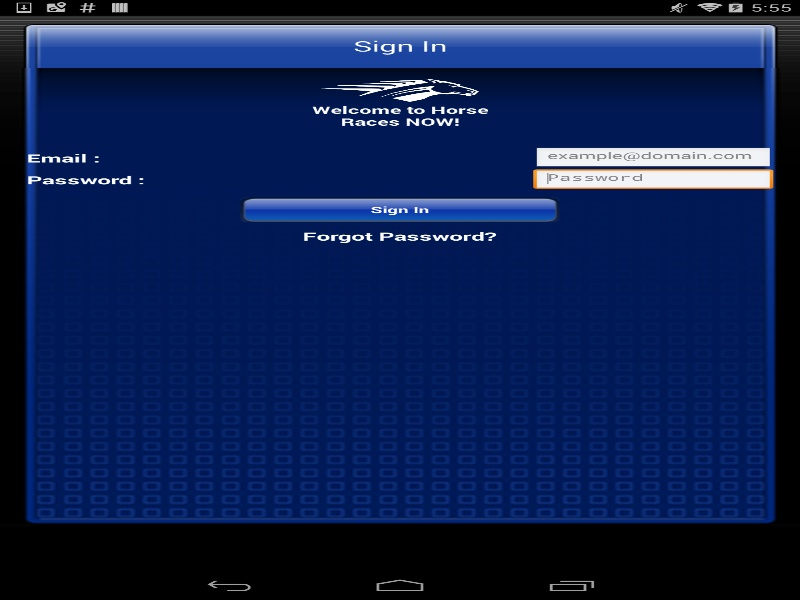Button: (240, 197, 560, 222)
Input: (533, 147, 773, 169), (533, 169, 773, 190)
